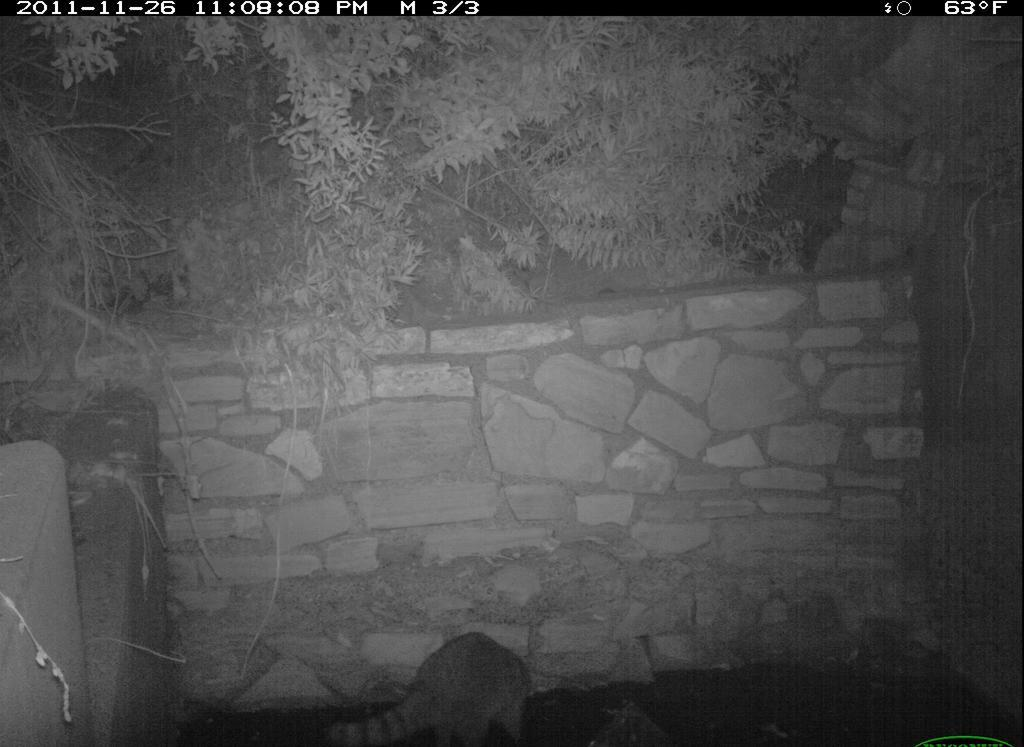raccoon: (317, 628, 537, 747)
